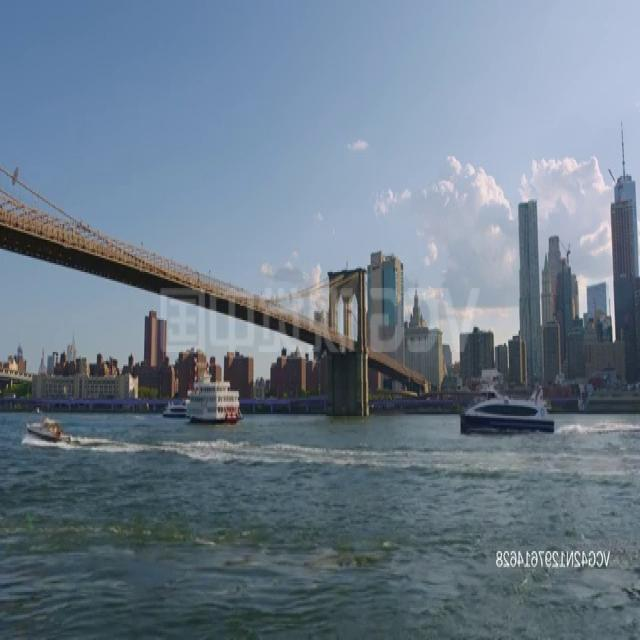houseboat: (24, 413, 74, 445)
passenger ship: (453, 379, 558, 433), (189, 374, 243, 426), (162, 401, 188, 416)
